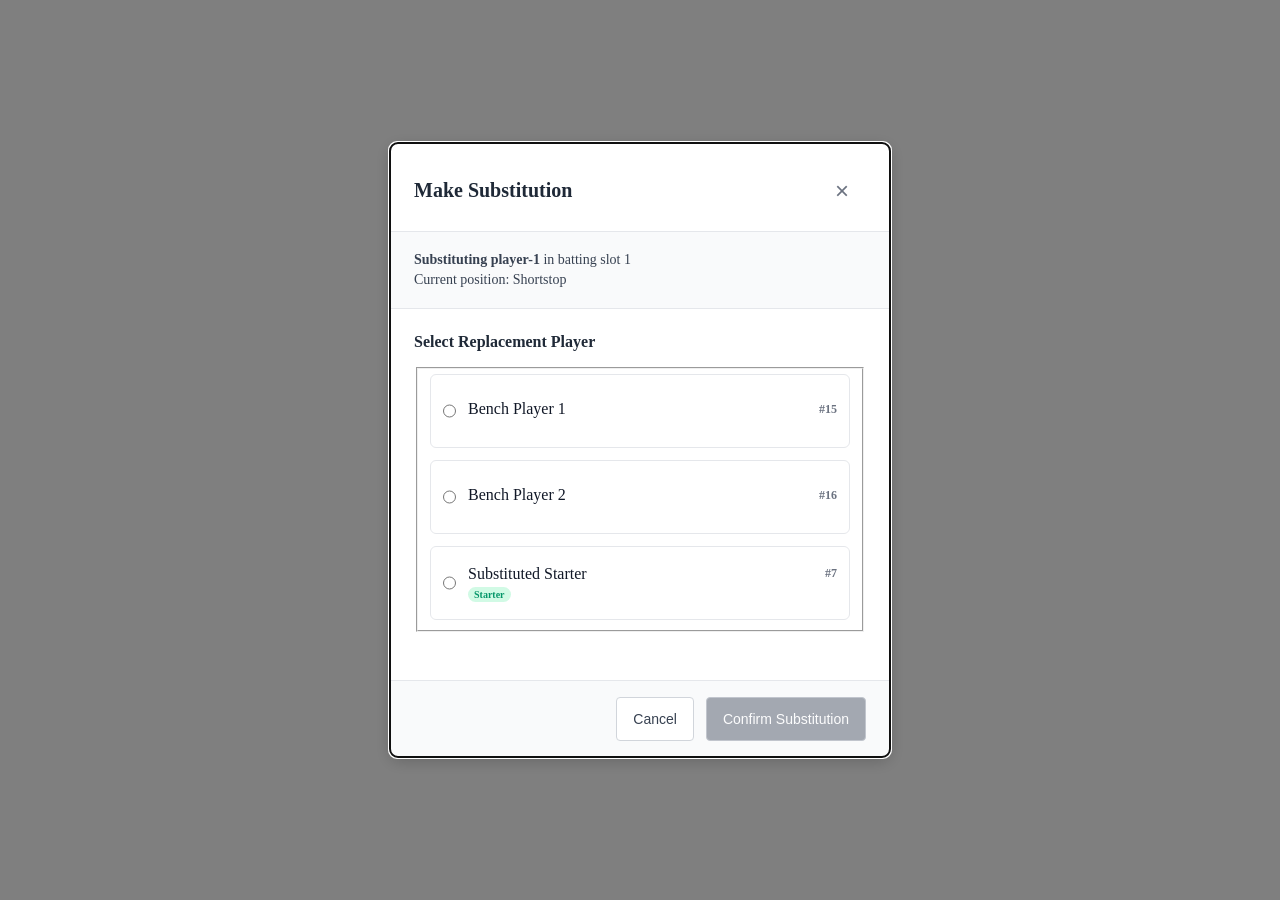
Test: SubstitutionDialog Component - TDD Implementation › Error Handling › should display error message when substitution fails
Step 1. Click the radio button labelled "Bench Player 1 #15" → (450, 411), box [443,387,456,435]
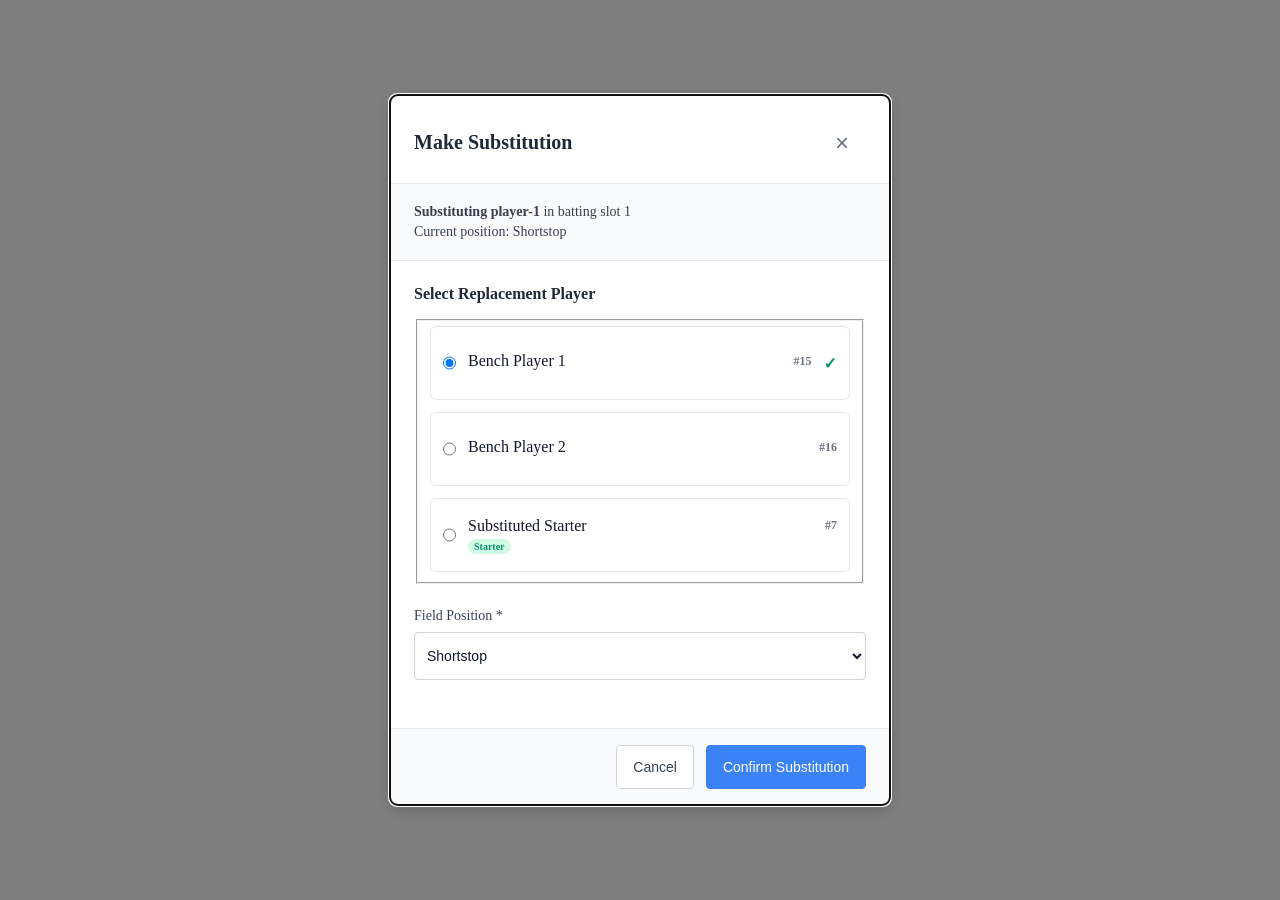
Step 2. Click the button "Confirm Substitution" → (786, 767), box [706,745,866,789]
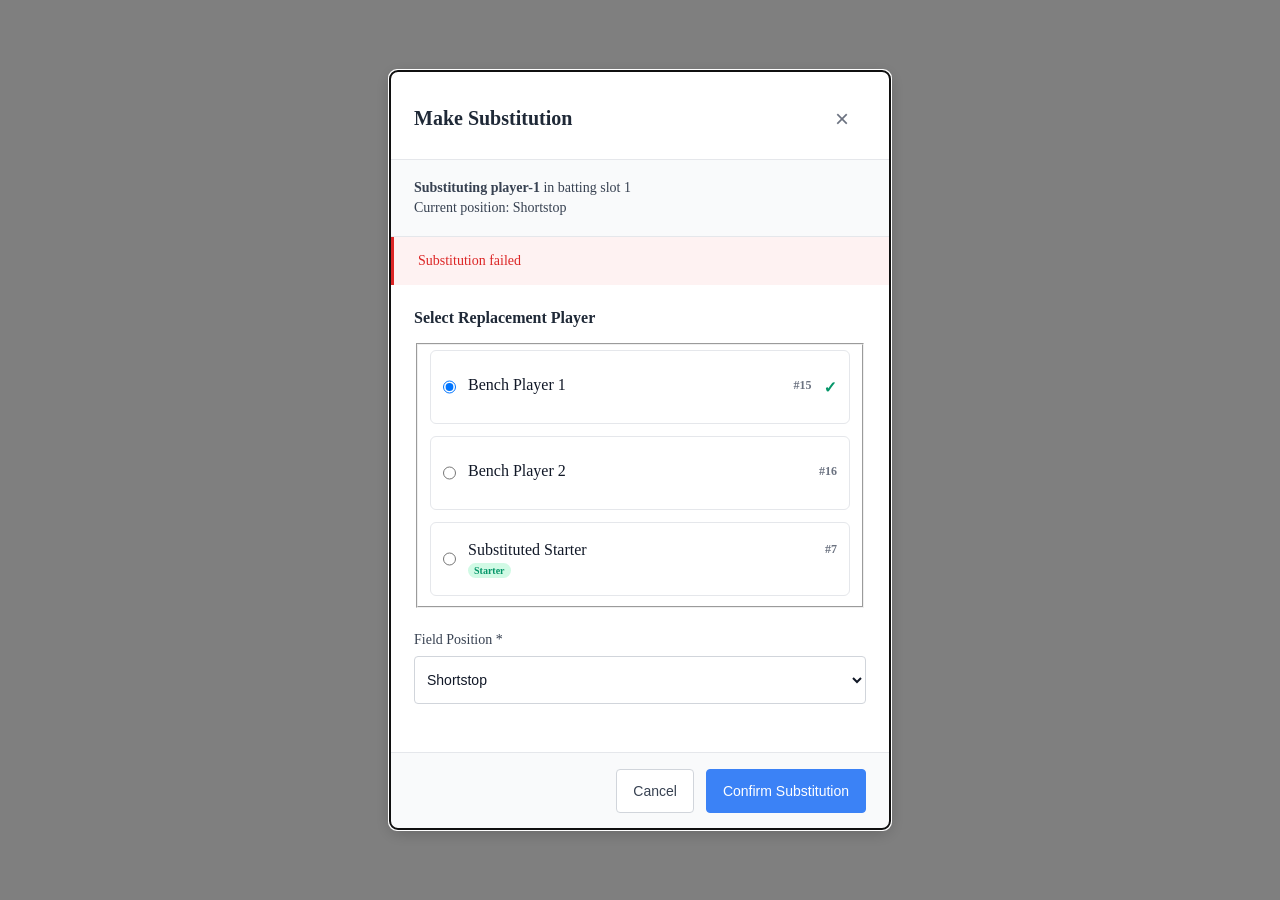
Now the text "Substitution failed" is shown, box [390,237,890,285]
